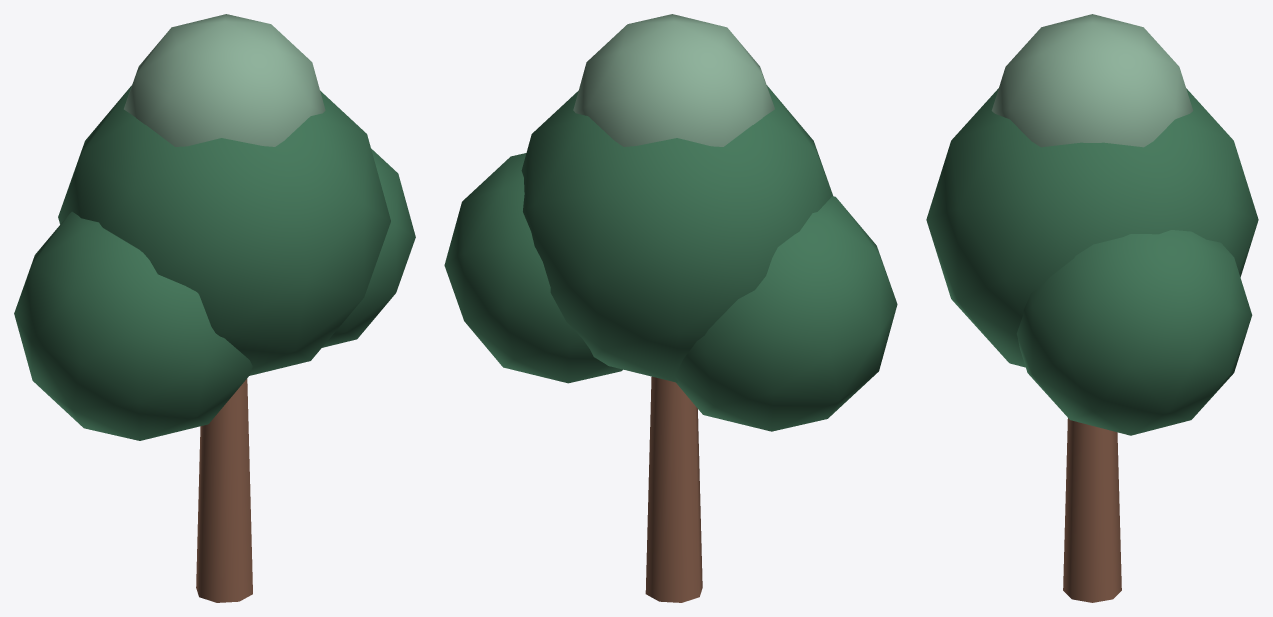
Rendered from deco_tree.glb.
3 views of the same model, side by side, from view 1: azimuth 30°, elevation 25°; view 2: azimuth 150°, elevation 25°; view 3: azimuth 270°, elevation 25° (orthographic).
Visible parts, largest first — view 1: deco_tree; view 2: deco_tree; view 3: deco_tree.
Boxes of the visible parts, left/top/right/bottom form: deco_tree: left=14, top=14, right=415, bottom=602; deco_tree: left=444, top=14, right=897, bottom=602; deco_tree: left=926, top=14, right=1258, bottom=602.
Size of the model in its own units: 3.55 by 4.9 by 2.6.
